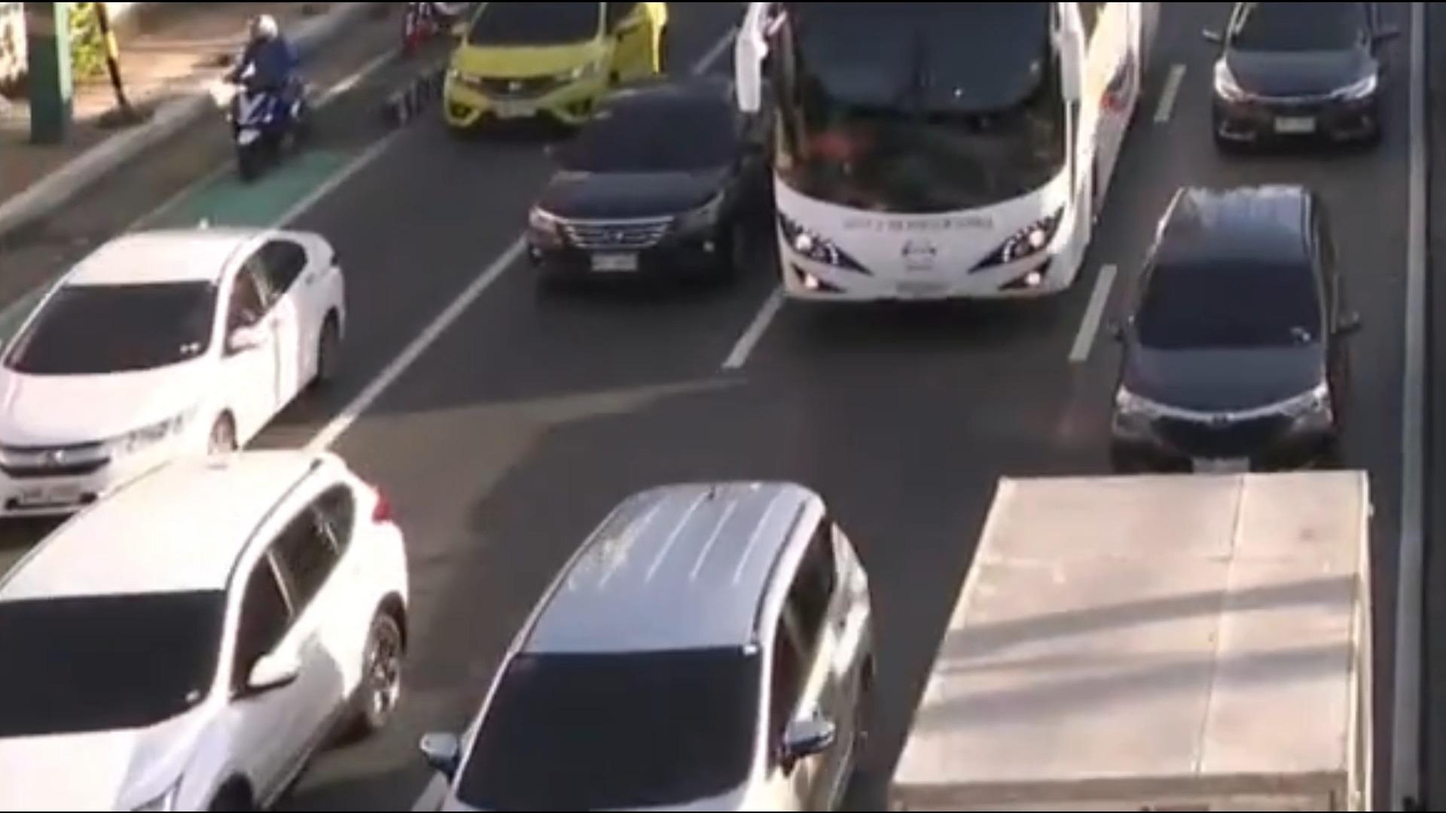Bus: (765, 0, 1156, 311)
Motorcycle: (220, 8, 314, 176)
SUV: (425, 476, 881, 813), (0, 450, 407, 813), (1109, 183, 1359, 469), (516, 80, 758, 295), (1196, 0, 1397, 165)
Sedan: (0, 218, 352, 510), (437, 0, 665, 139)
Truck: (889, 470, 1384, 813)
